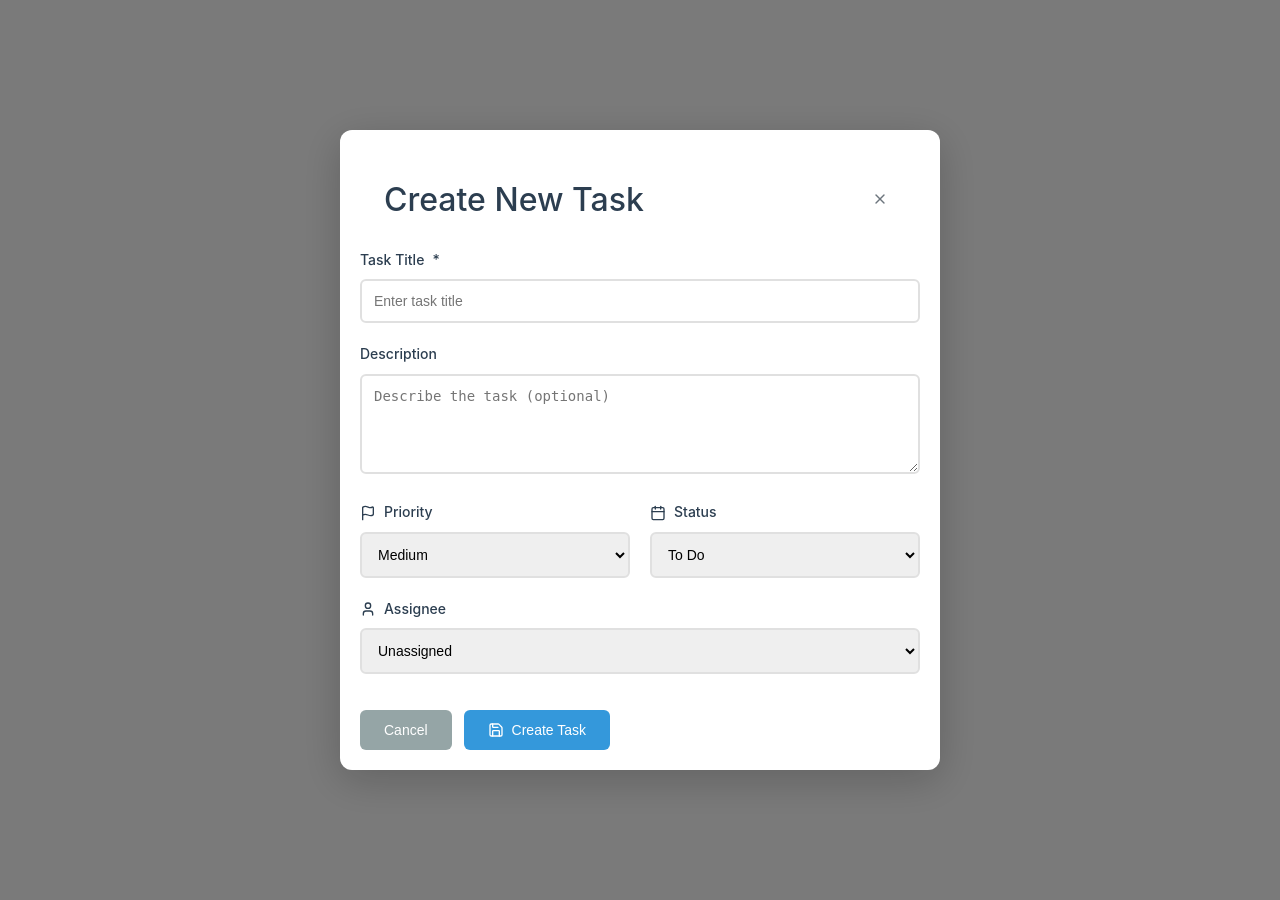
Test case: TaskModal › shows validation error if title is too short
Type "AB" into the field labelled "Task Title *" at (640, 301), box [360,279,920,323]
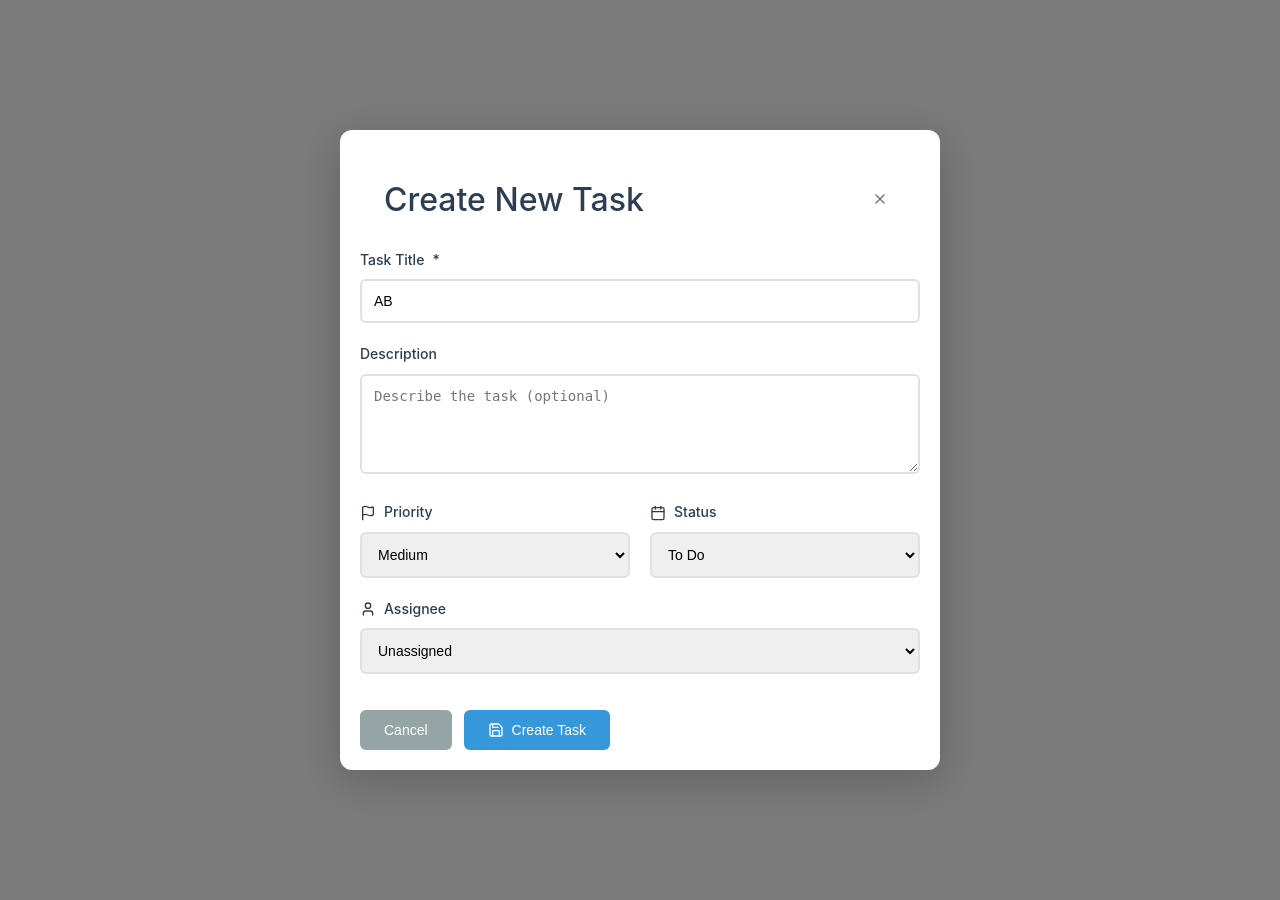
Click the button "Create Task" at (537, 730), box [464,710,610,750]
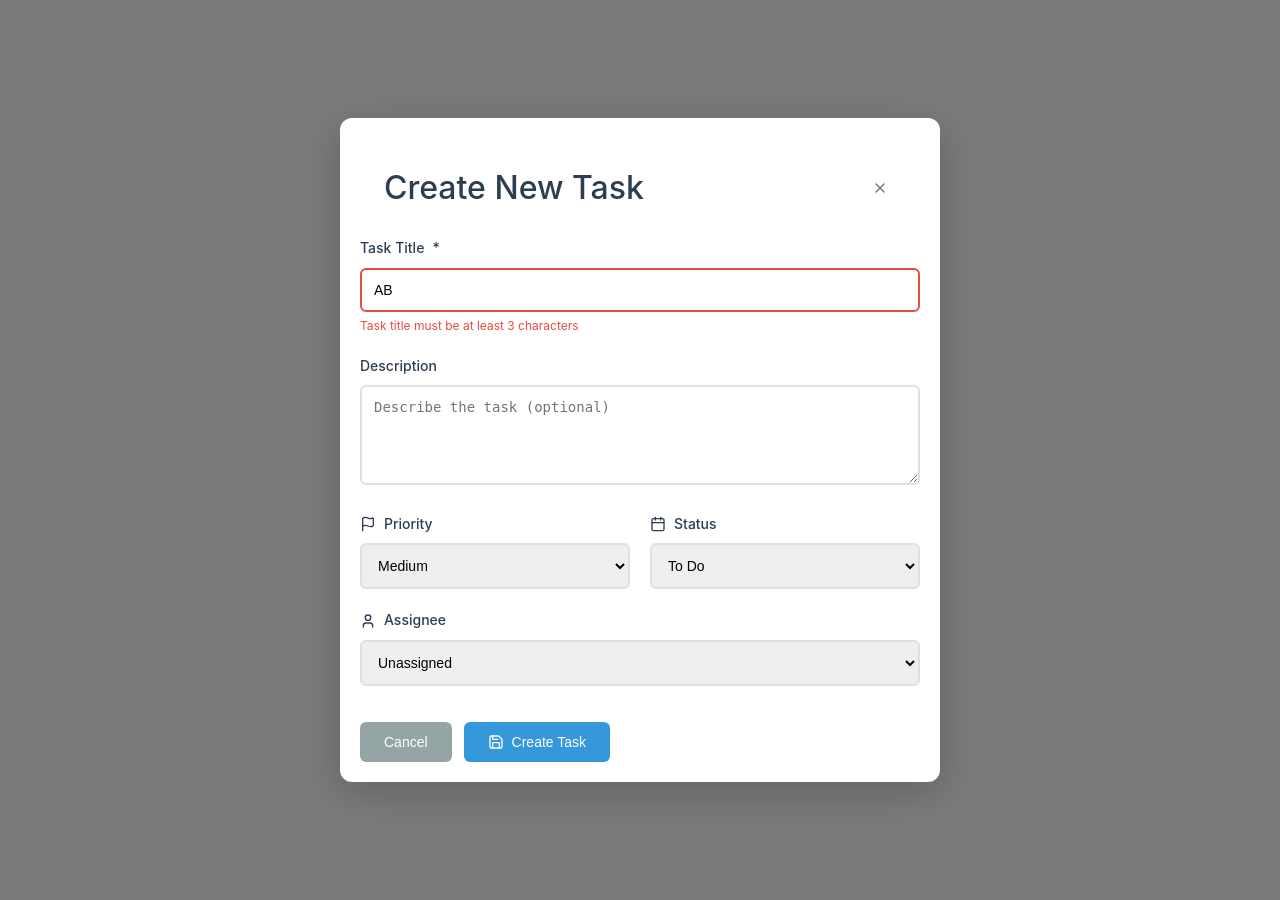
Expected: the text "Task title must be at least 3 characters" is shown, [360,318,579,333]
